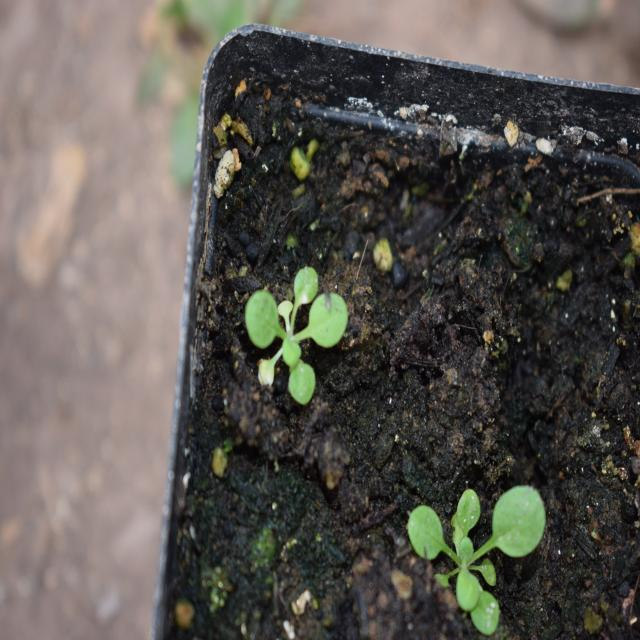Shepherd_Purse: (412, 442, 546, 637), (238, 268, 345, 405)
